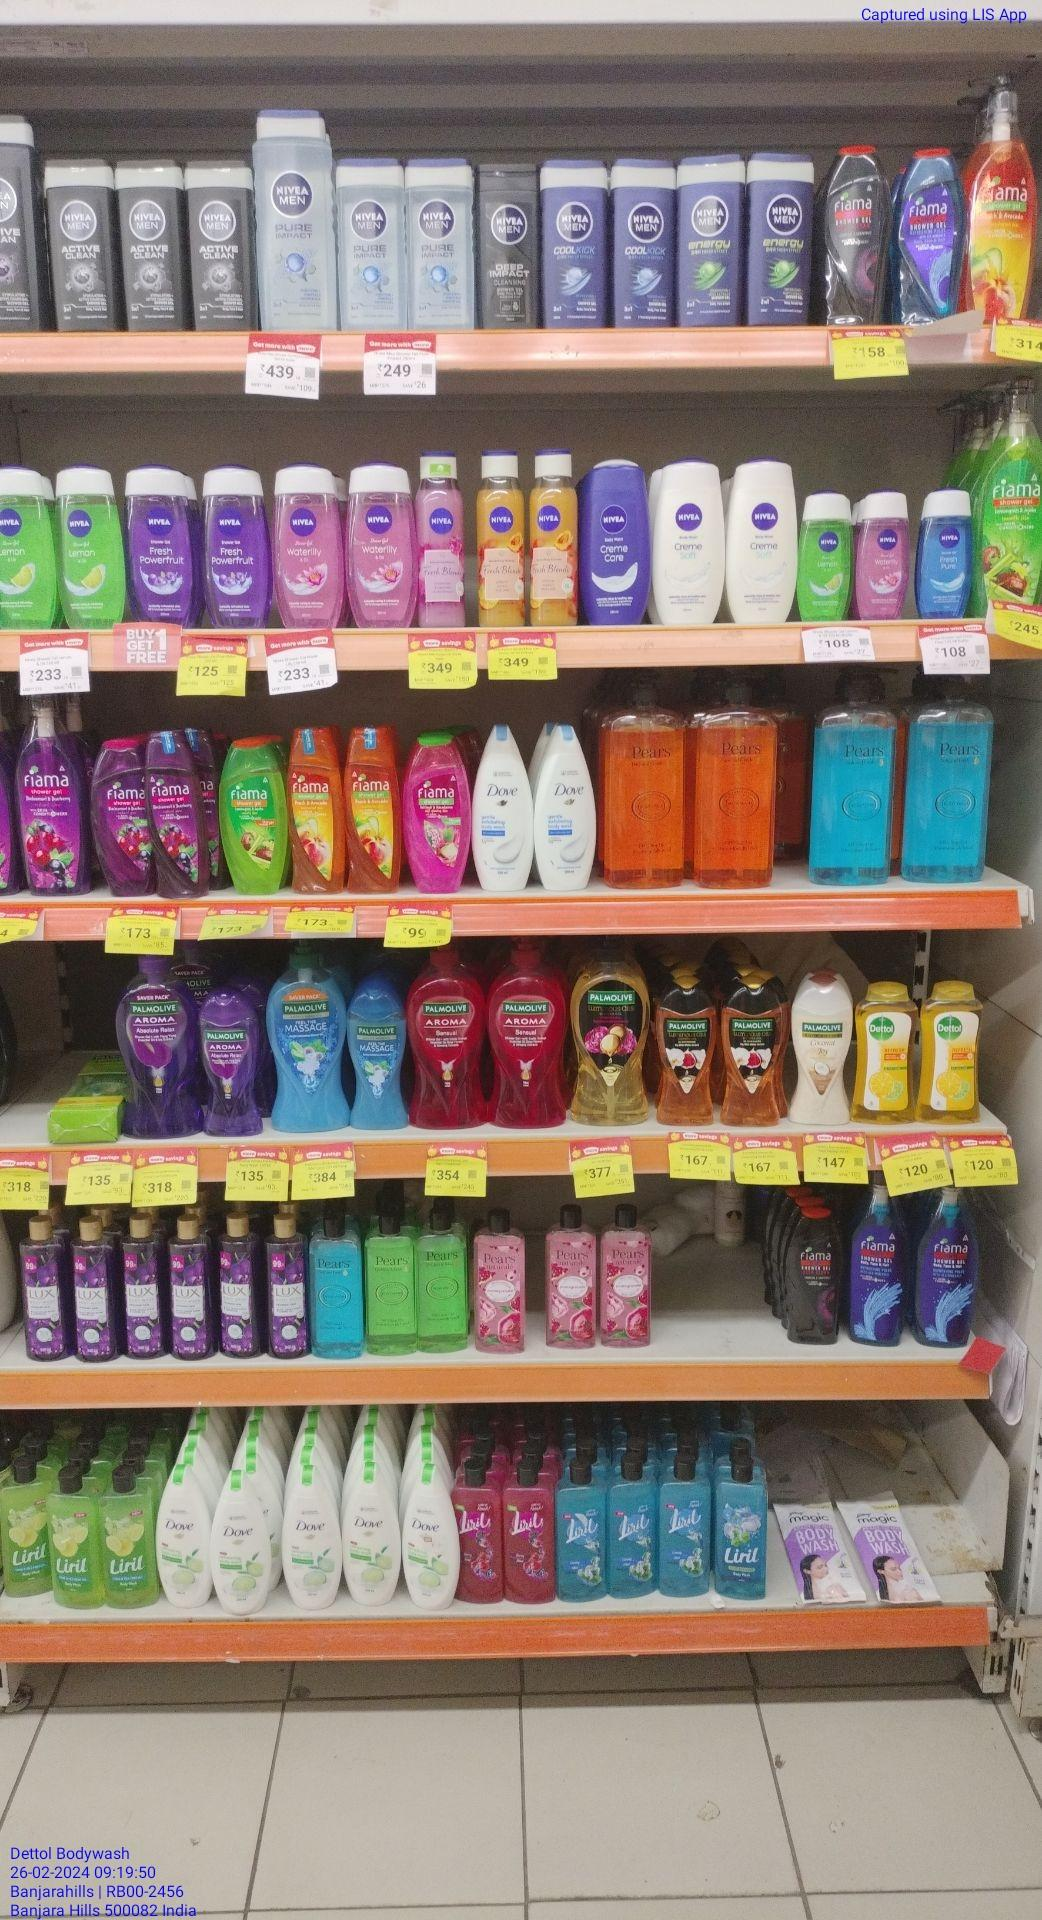Dettol_Bodywash_Refresh: (925, 984, 983, 1124), (857, 988, 912, 1124)
Dove_Deep_Moisture_Body_Wash_250ML: (535, 725, 597, 890), (475, 725, 533, 893)
Dove_Refreshing_Body_Wash_250ML: (281, 1469, 340, 1611), (341, 1466, 397, 1604), (210, 1472, 263, 1615), (157, 1466, 209, 1607), (404, 1466, 456, 1610)
Fiama_Shower_Gel_Lemongrass_and_Jojoba_250ML: (222, 741, 286, 897)
Fiama_Shower_Gel_Patchouli_and_Macadamia_250ML: (407, 732, 470, 894)
Fiama_Shower_Gel_Peach_and_Avocado_250ML: (348, 725, 400, 893), (291, 727, 343, 894)
Liril_Cooling_Mint_Body_Wash_250ML: (553, 1461, 606, 1602), (660, 1456, 710, 1597), (720, 1457, 766, 1599), (612, 1457, 657, 1596)
Liril_Lime_and_Tea_Tree_Oil_Body_Wash_250ML: (101, 1469, 153, 1608), (49, 1471, 100, 1608), (0, 1463, 46, 1598)
Lux_Black_Orchid_Scent_and_Juniper_Oil_Body_Wash_245ML: (122, 1217, 166, 1360), (22, 1221, 67, 1358), (71, 1220, 113, 1360), (169, 1220, 212, 1360), (217, 1217, 257, 1357), (269, 1215, 305, 1356)
Nivea_Shower_Gel_Fresh_Powerfruit_250ML: (127, 463, 195, 628), (205, 467, 268, 627)
Nivea_Shower_Gel_Lemon_and_Oil_250ML: (60, 467, 123, 628), (1, 464, 55, 628)
Nivea_Shower_Gel_Waterlily_and_Oil_250ML: (346, 464, 416, 625), (273, 466, 339, 630)
Palmolive_Aroma_Moments_Feel_The_Massage_Shower_Gel_250ML: (348, 984, 409, 1129)
Palmolive_Aroma_Relax_250ML: (199, 991, 262, 1135)
Palmolive_Coconut_Joy_Exfoliating_Body_Wash_250ML: (788, 976, 851, 1126)
Palmolive_Luminous_Oils_Invigorating_Macadamia_Oil_With_Peony_250ML: (574, 949, 651, 1125)
Pears_Pure_Glycerin_and_Lemon_Flower_Extracts_Body_Wash_250ML: (417, 1212, 468, 1352), (367, 1215, 413, 1354)
Pears_Pure_Glycerin_and_Mint_Extracts_Body_Wash_250ML: (311, 1218, 364, 1356)
